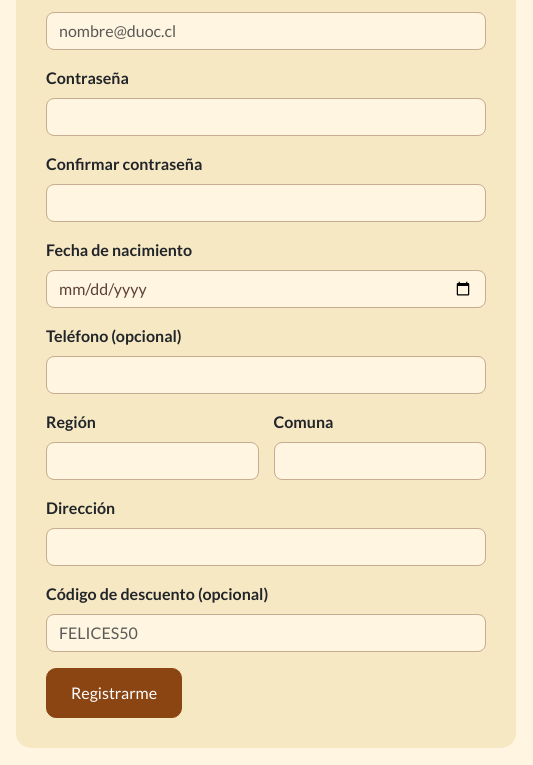
it: Página Registro › no envía el formulario con campos obligatorios vacíos
This screenshot has width=533, height=765.
(page scrolled)
Click the button "Registrarme": (114, 693) [46,668,182,718]
(page scrolled)
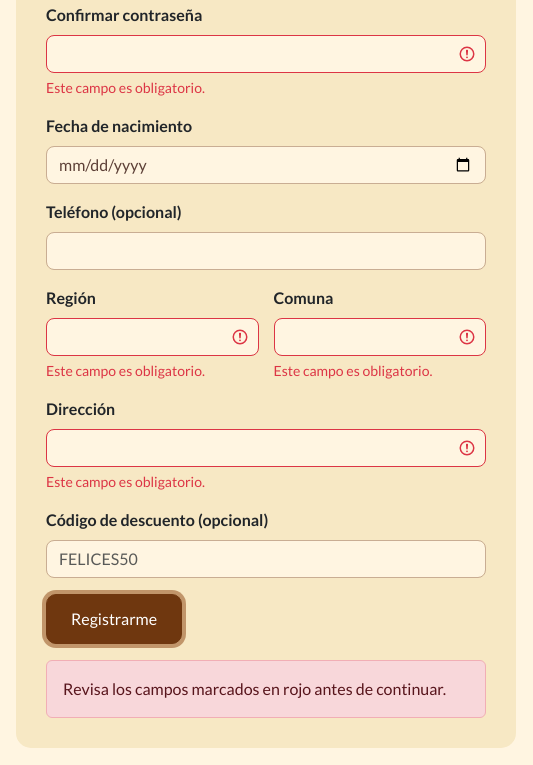
Now the message shows "Revisa los campos marcados en rojo", box [63,679,446,698]
